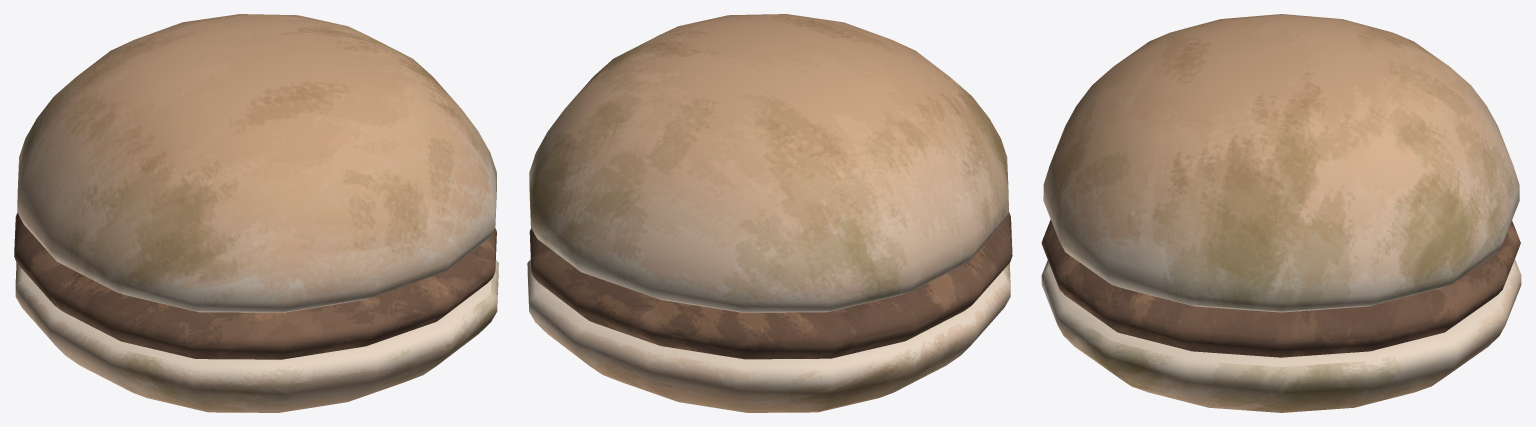
File: burger.fbx
3 renders of one model, left to right at view 1: azimuth 30°, elevation 25°; view 2: azimuth 150°, elevation 25°; view 3: azimuth 270°, elevation 25°, orthographic.
Visible parts, largest first — view 1: pCube20, pCube23, pCube19; view 2: pCube20, pCube23, pCube19; view 3: pCube20, pCube23, pCube19.
Part boxes in pixels (x1=…): pCube20: x1=17, y1=14, x2=496, y2=312; pCube23: x1=15, y1=260, x2=498, y2=412; pCube19: x1=14, y1=213, x2=496, y2=359; pCube20: x1=529, y1=14, x2=1008, y2=312; pCube23: x1=527, y1=260, x2=1010, y2=412; pCube19: x1=529, y1=212, x2=1012, y2=359; pCube20: x1=1043, y1=14, x2=1519, y2=312; pCube23: x1=1041, y1=259, x2=1521, y2=412; pCube19: x1=1041, y1=219, x2=1520, y2=357.
Bounding box in the file's own units: 9.48 × 6.82 × 9.45.
2 materials, 2 textured.
